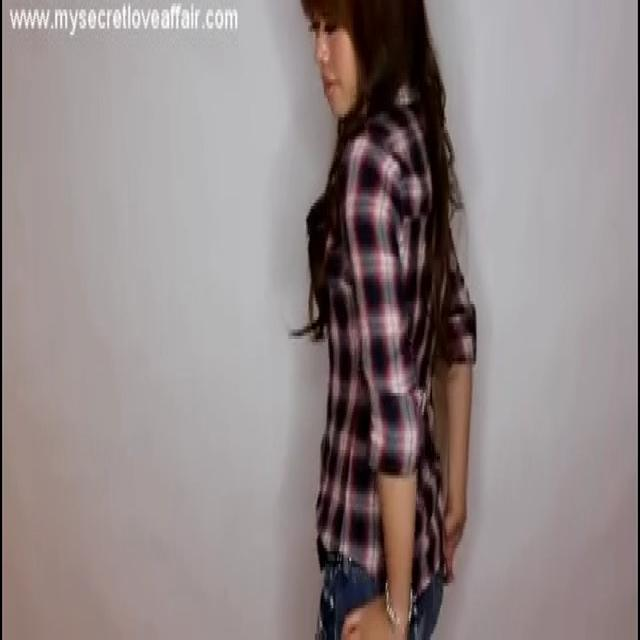shirt: (314, 68, 477, 609)
